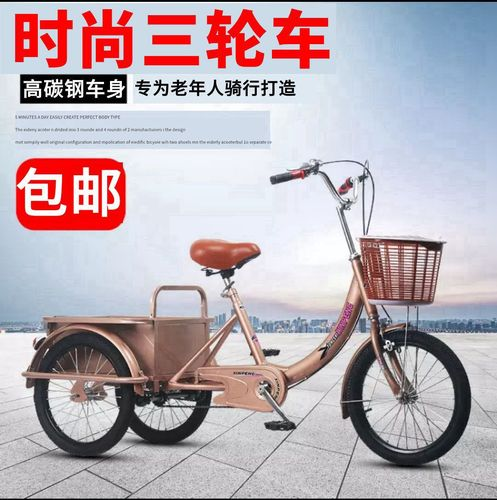empty: (6, 132, 485, 468)
